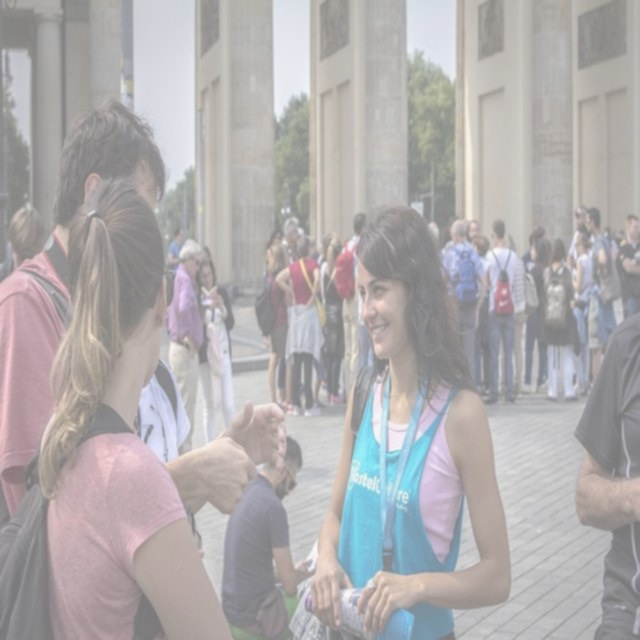pessoa: (0, 94, 290, 523), (23, 176, 238, 640), (302, 191, 520, 639), (134, 358, 232, 638), (571, 310, 639, 639), (220, 433, 318, 640), (164, 236, 208, 456), (274, 233, 326, 418), (474, 213, 520, 408), (194, 253, 237, 447), (441, 218, 488, 386), (254, 242, 294, 408), (337, 211, 370, 411), (543, 236, 581, 403), (584, 206, 618, 388), (520, 238, 550, 396), (566, 231, 594, 397), (352, 252, 382, 406), (320, 234, 346, 408), (472, 235, 498, 402), (284, 351, 354, 411), (506, 230, 528, 399), (0, 205, 45, 284), (518, 189, 558, 269), (614, 212, 640, 320), (424, 219, 482, 263), (565, 202, 596, 282), (293, 225, 351, 265), (570, 344, 598, 400), (262, 228, 285, 293), (469, 321, 488, 396), (280, 217, 300, 265), (601, 222, 626, 260), (167, 224, 186, 272), (190, 232, 212, 269), (276, 230, 294, 268), (576, 222, 594, 255), (539, 342, 550, 392), (466, 218, 482, 252), (630, 230, 640, 270)
